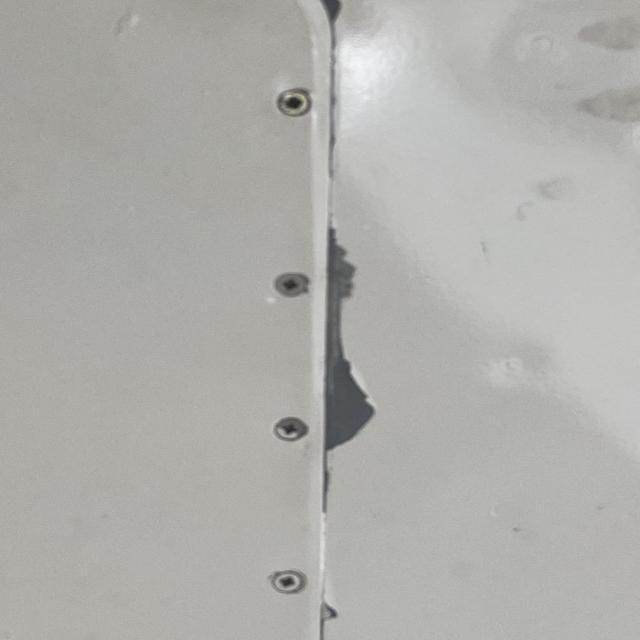Paint-off: (324, 228, 375, 451)
